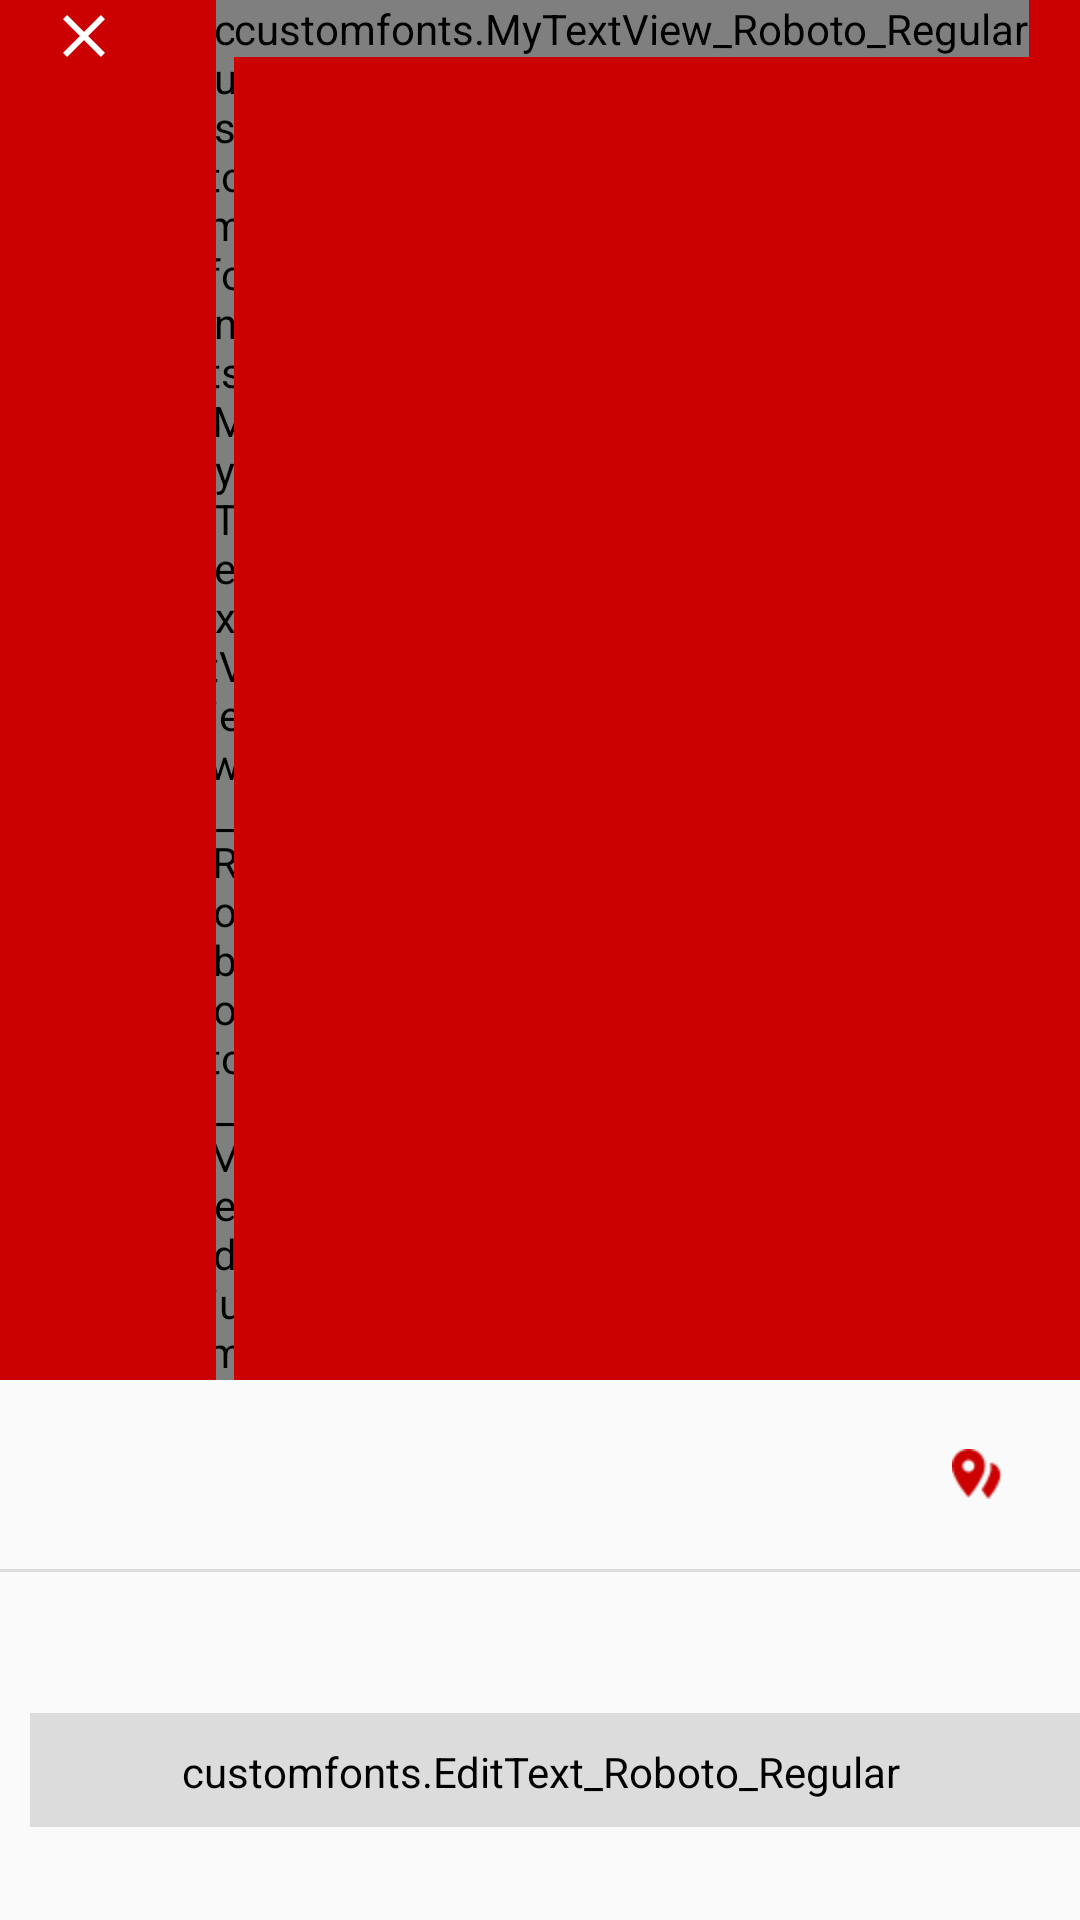

Named icons in this screenshot (1080px×1920px) and their bounding boxes, [x1=x1, y1=y1, x2=x2, y2=y2]:
close: [x1=63, y1=15, x2=105, y2=57]
